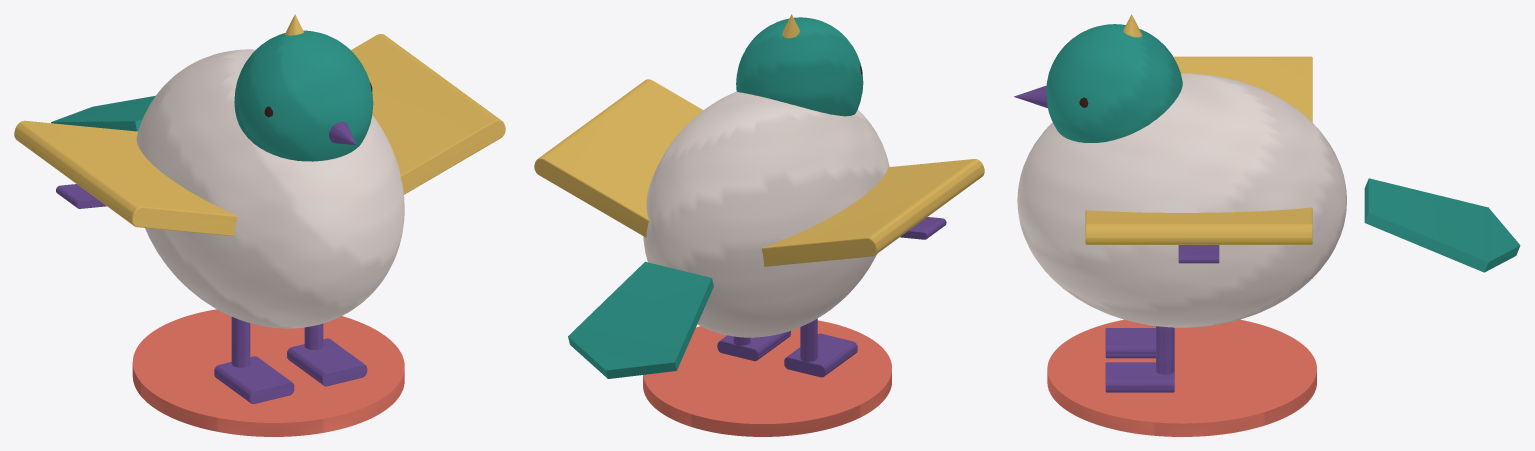
Rendered from 0154_恐龙图鉴_近鸟龙.glb.
3 views of the same model, side by side, from view 1: azimuth 30°, elevation 25°; view 2: azimuth 150°, elevation 25°; view 3: azimuth 270°, elevation 25° (orthographic). The views are drawn at different scales.
Parts seen in each view (by area): view 1: card_0154; view 2: card_0154; view 3: card_0154.
Part boxes in pixels (x1,y1,x2,y2): card_0154: [14, 14, 505, 436]; card_0154: [534, 14, 984, 436]; card_0154: [1014, 14, 1520, 436].
Bounding box in the file's own units: 1.06 × 1 × 1.25.
